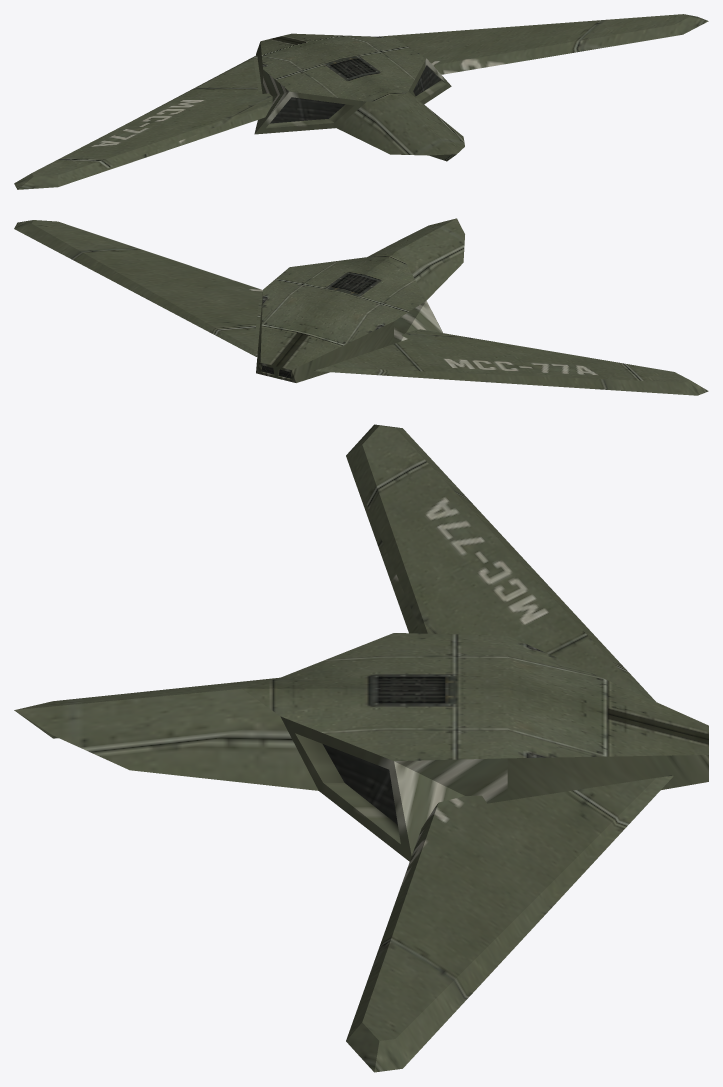
File: drone_quetzalcoatl.dae
3 views of the same model, one above another, from view 1: azimuth 30°, elevation 25°; view 2: azimuth 150°, elevation 25°; view 3: azimuth 270°, elevation 25° (orthographic). The views are drawn at different scales.
Parts seen in each view (by area): view 1: drone_quetzalcóatl; view 2: drone_quetzalcóatl; view 3: drone_quetzalcóatl.
Part boxes in pixels (x1,y1,x2,y2): drone_quetzalcóatl: (14, 14, 708, 189); drone_quetzalcóatl: (14, 218, 708, 395); drone_quetzalcóatl: (14, 424, 708, 1072).
Bounding box in the file's own units: 8.42 × 3.82 × 0.5045.
